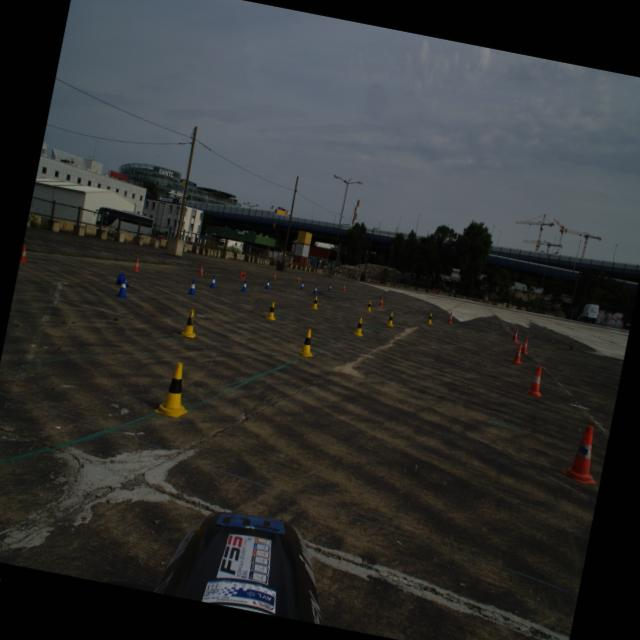blue_cone: (116, 277, 130, 299), (115, 272, 131, 287), (188, 279, 198, 295), (209, 275, 219, 289), (240, 280, 248, 292), (264, 279, 272, 290), (312, 284, 318, 294), (300, 282, 306, 290), (328, 284, 333, 292)
orange_cone: (560, 422, 608, 486), (525, 364, 548, 398), (510, 343, 524, 365), (19, 245, 32, 264), (521, 337, 531, 355), (132, 258, 142, 273), (511, 328, 520, 342), (198, 265, 206, 277), (447, 312, 454, 324), (378, 296, 384, 306), (240, 272, 246, 279), (273, 272, 277, 280), (342, 284, 346, 292), (297, 275, 301, 282)
yellow_cone: (154, 359, 196, 419), (180, 308, 202, 340), (296, 328, 318, 358), (352, 316, 367, 336), (266, 300, 278, 320), (386, 311, 396, 327), (311, 296, 320, 310), (426, 312, 435, 325), (365, 300, 373, 312)
